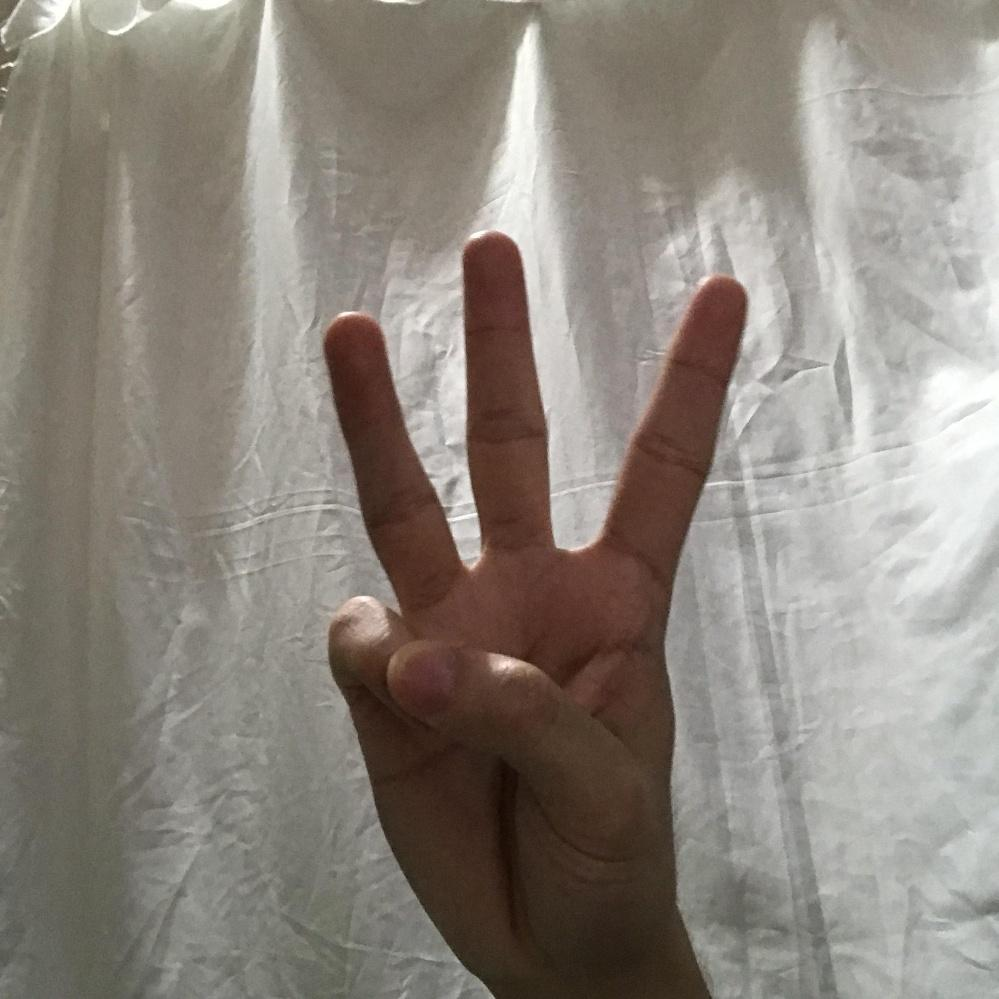w: (325, 228, 753, 943)
